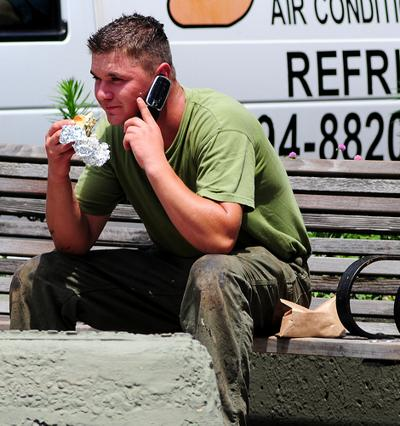person: (31, 14, 313, 423)
